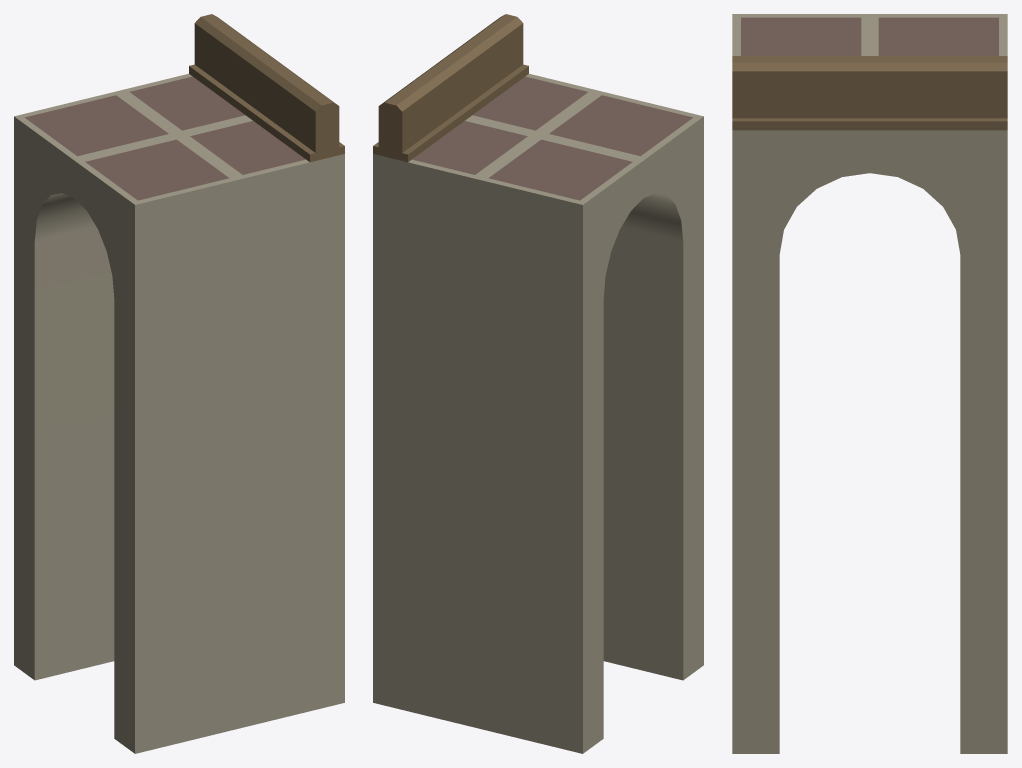
File: Bridge_Tile_One_Wall.fbx
The picture shows the model from 3 angles, left to right: view 1: azimuth 30°, elevation 25°; view 2: azimuth 150°, elevation 25°; view 3: azimuth 270°, elevation 25°; orthographic projection. The views are drawn at different scales.
Parts seen in each view (by area): view 1: polySurface2; view 2: polySurface2; view 3: polySurface2.
Part boxes in pixels (x1,y1,x2,y2): polySurface2: (14, 14, 344, 753); polySurface2: (373, 14, 703, 753); polySurface2: (732, 14, 1007, 753).
Bounding box in the file's own units: 0.06 × 0.1648 × 0.06.
